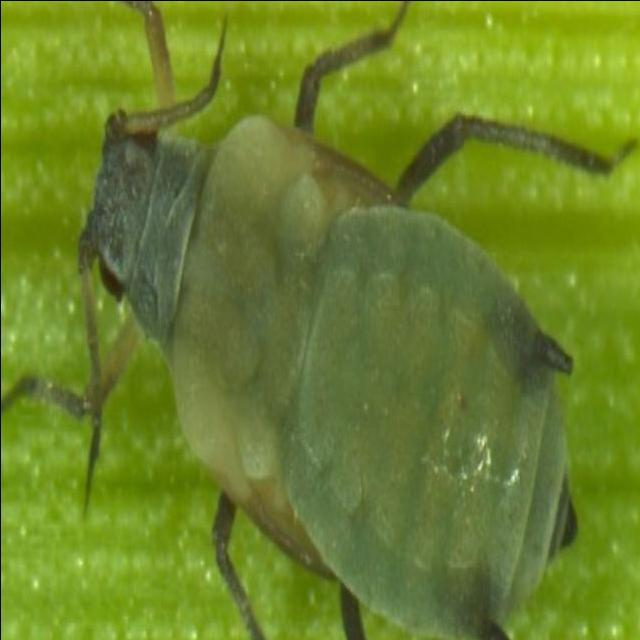aphid: (43, 30, 617, 632)
